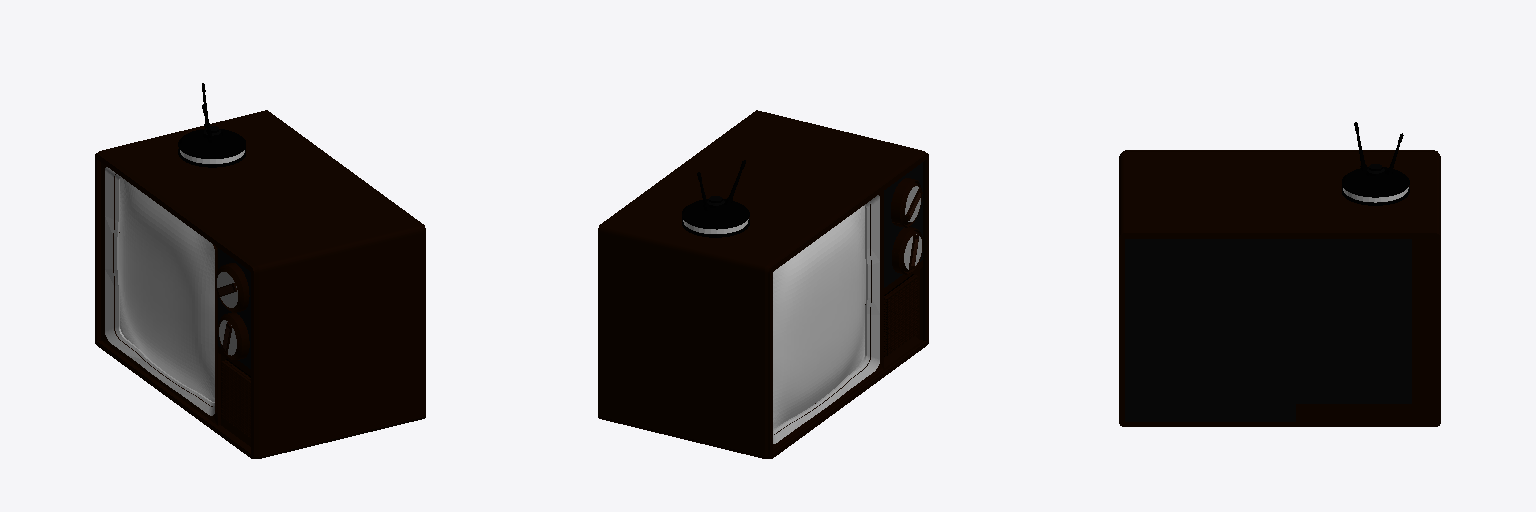
File: uploadsv.obj
The picture shows the model from 3 angles: view 1: azimuth 30°, elevation 25°; view 2: azimuth 150°, elevation 25°; view 3: azimuth 270°, elevation 25°; orthographic projection.
Parts seen in each view (by area): view 1: Cube.002, Cube.001, Cylinder.003; view 2: Cube.002, Cube.001, Cylinder.003; view 3: Cube.002, Cylinder.003.
Part boxes in pixels (bbox=[...]): Cube.002: bbox=[95, 110, 425, 458]; Cube.001: bbox=[119, 177, 214, 401]; Cylinder.003: bbox=[178, 83, 245, 167]; Cube.002: bbox=[598, 110, 928, 458]; Cube.001: bbox=[773, 206, 865, 429]; Cylinder.003: bbox=[682, 160, 749, 237]; Cube.002: bbox=[1119, 150, 1440, 426]; Cylinder.003: bbox=[1342, 122, 1409, 205].
Size of the model in its own units: 1.98 by 2.68 by 3.07.